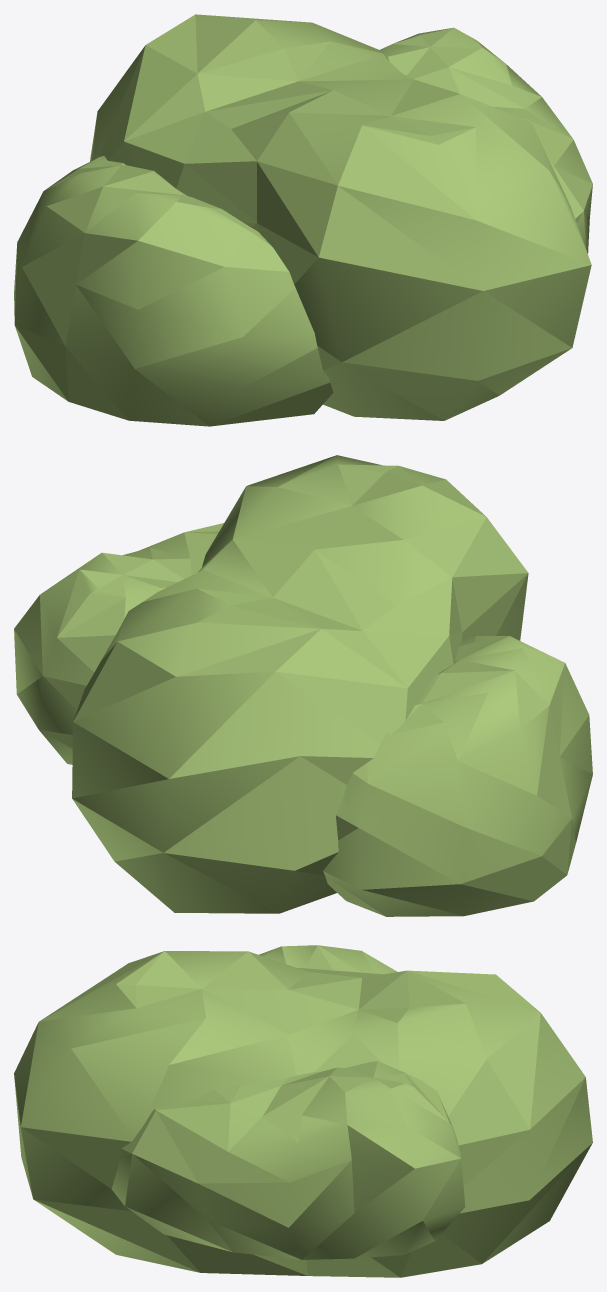
Rendered from a_z2_bush_01.fbx.
3 renders of one model, top to bottom at view 1: azimuth 30°, elevation 25°; view 2: azimuth 150°, elevation 25°; view 3: azimuth 270°, elevation 25°, orthographic. The views are drawn at different scales.
Visible parts, largest first — view 1: a_z2_bush_01; view 2: a_z2_bush_01; view 3: a_z2_bush_01.
Boxes of the visible parts, x1,y1,x2,y2 form: a_z2_bush_01: [14, 14, 592, 426]; a_z2_bush_01: [14, 455, 592, 916]; a_z2_bush_01: [14, 945, 592, 1277].
Bounding box in the file's own units: 246 × 131 × 269.
